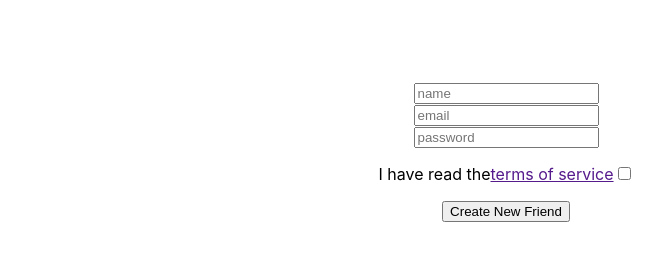
Test case: Testing Create New User Form › Ensure all expected input fields exist and operate correctly › all input fields must pass a specified schema before the submit button works › if name < 2 error message appears
In the field named "name": (507, 95) [414,84,599,105], type "a"
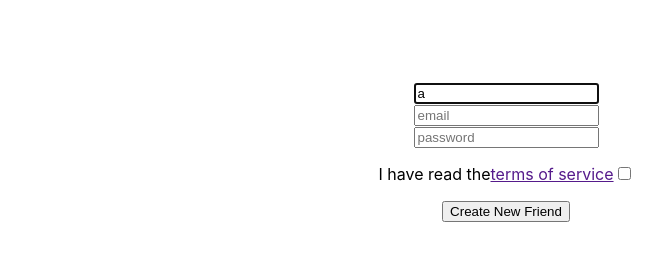
In the field named "email": (507, 117) [414,106,599,127], type "dawsonreschke@gmail.com"
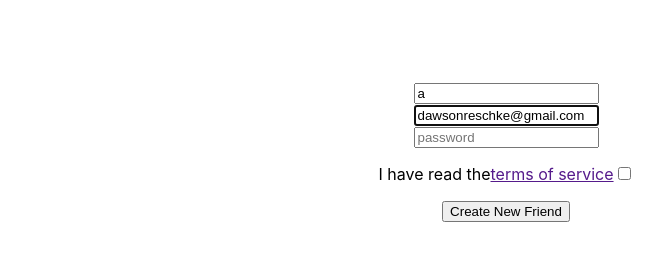
In the password field named "password": (507, 139) [414,128,599,149], type "123456"
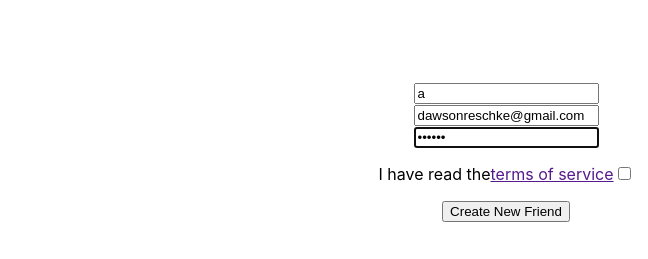
Click the checkbox named "tos": (625, 175) [618,168,631,181]
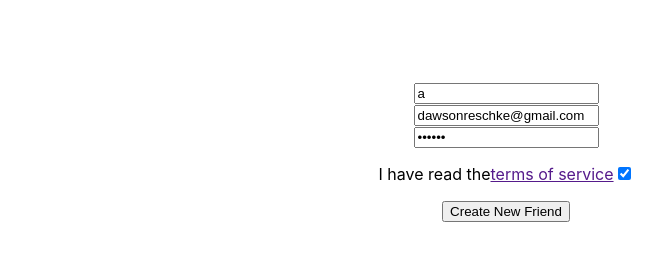
Click the button named "submitBtn": (506, 213) [442,202,570,223]
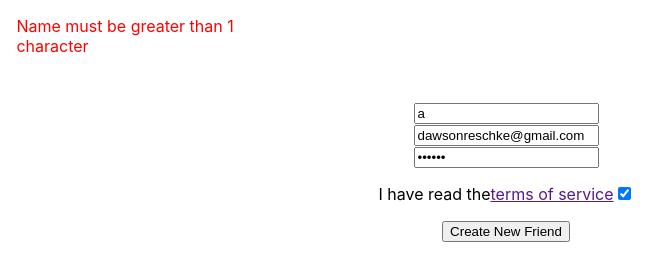
Check: the text "Name must be greater than 1 character" is shown, box [16,16,258,56]
